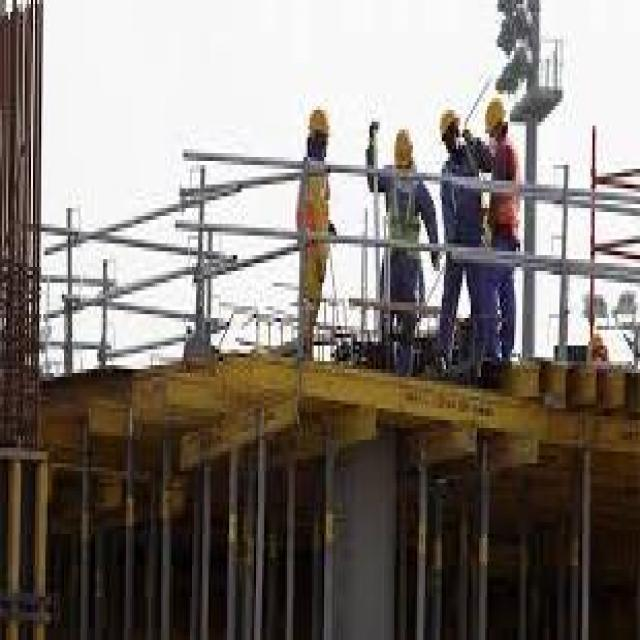Reflective-Jacket: (291, 149, 339, 259), (486, 134, 524, 248), (382, 173, 423, 259)
Safety-Helmet: (300, 90, 336, 150), (390, 118, 419, 176), (481, 86, 510, 142), (433, 94, 462, 146)
